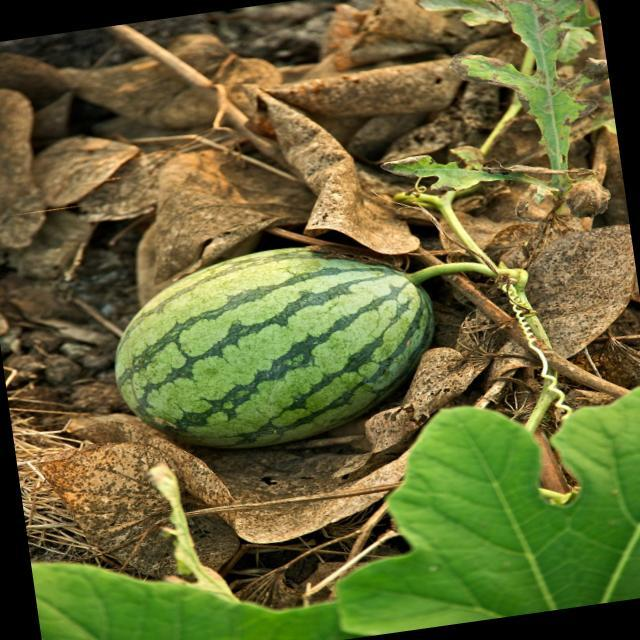WATERMELON: (100, 226, 453, 472)
